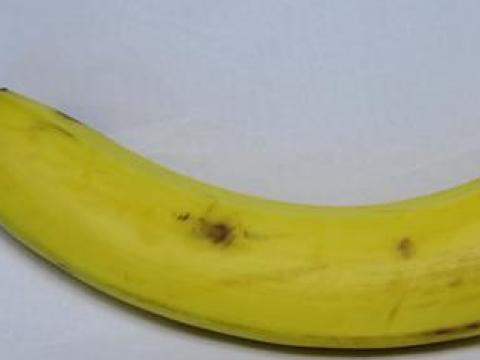freshripe: (0, 77, 479, 359)
